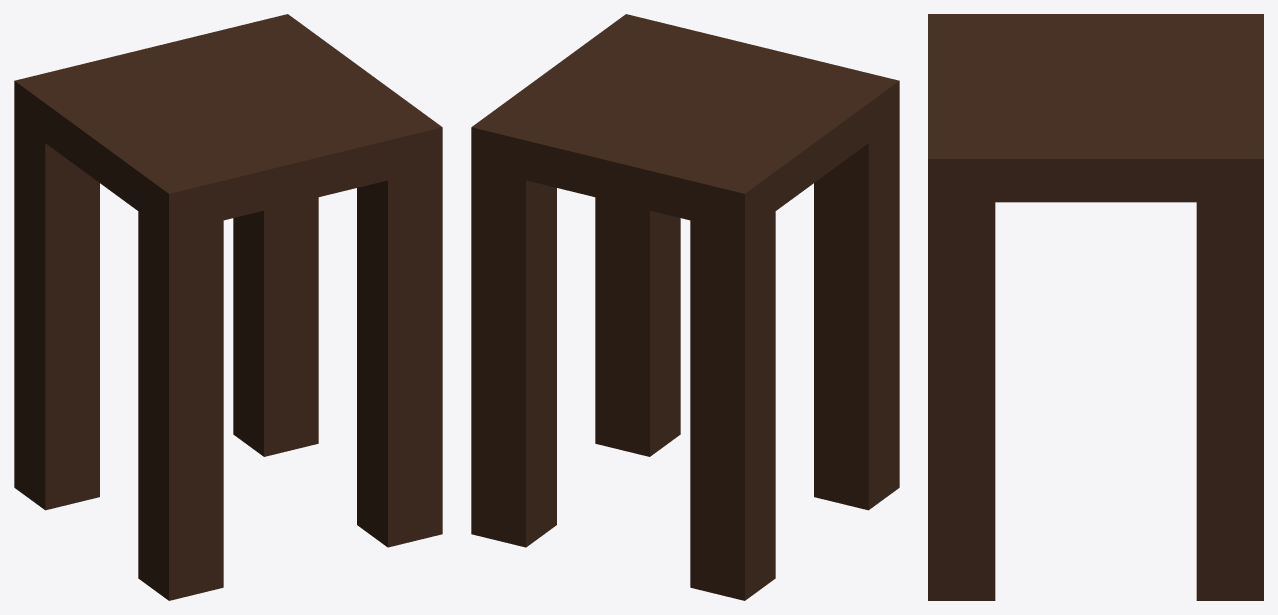
Rendered from small_table.fbx.
The picture shows the model from 3 angles, left to right: view 1: azimuth 30°, elevation 25°; view 2: azimuth 150°, elevation 25°; view 3: azimuth 270°, elevation 25°; orthographic projection. The views are drawn at different scales.
Visible parts, largest first — view 1: small_table; view 2: small_table; view 3: small_table.
Boxes of the visible parts, <box> form: small_table: <box>14,14,442,600</box>; small_table: <box>471,14,899,600</box>; small_table: <box>928,14,1263,600</box>.
Bounding box in the file's own units: 40.46 × 57.54 × 39.63.
